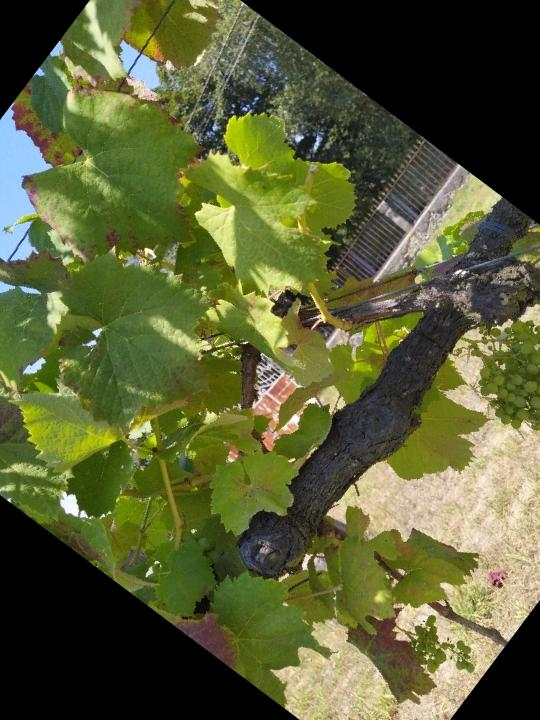grape: (445, 284, 540, 483), (398, 609, 488, 694)
